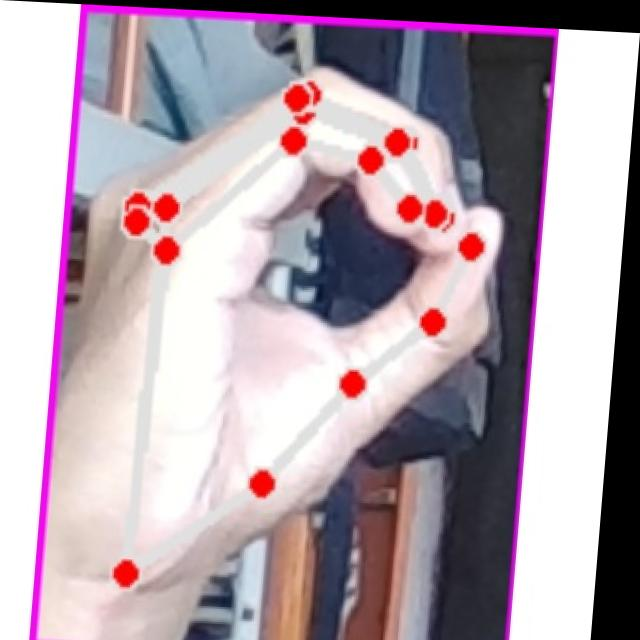O: (58, 40, 526, 630)
